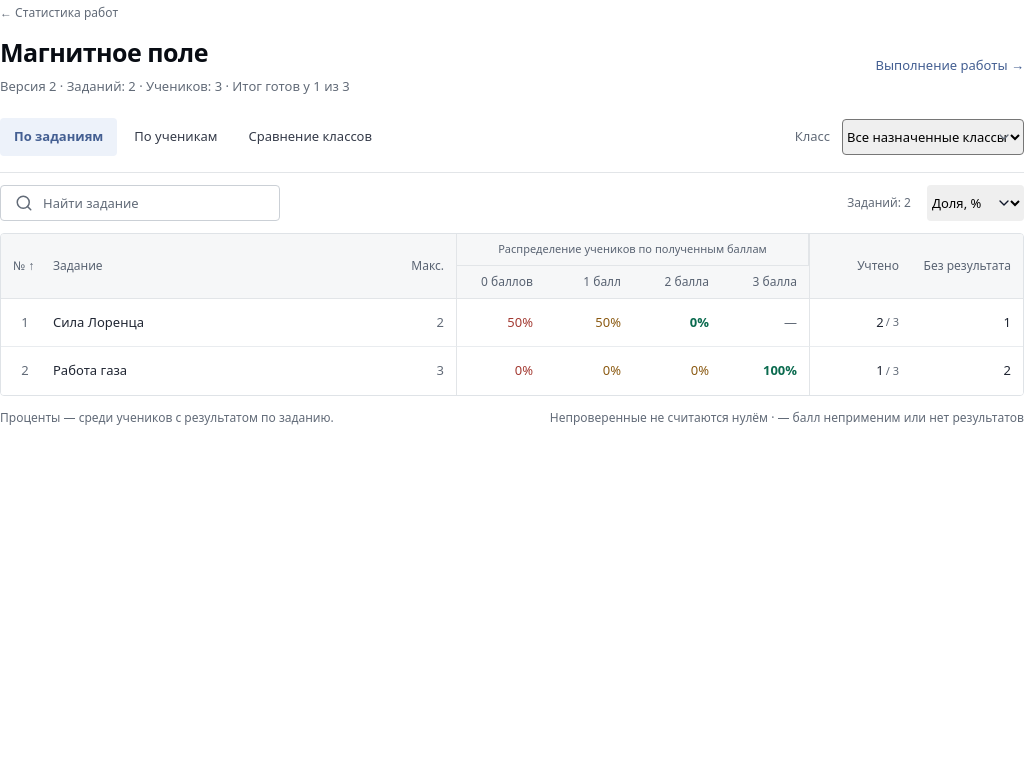
it: keeps an unreviewed/no-photo group separate from zero and transfers its filter to the matrix
Click the button named "Работа газа: без результата 2" at (989, 371), box [967, 351, 1011, 391]
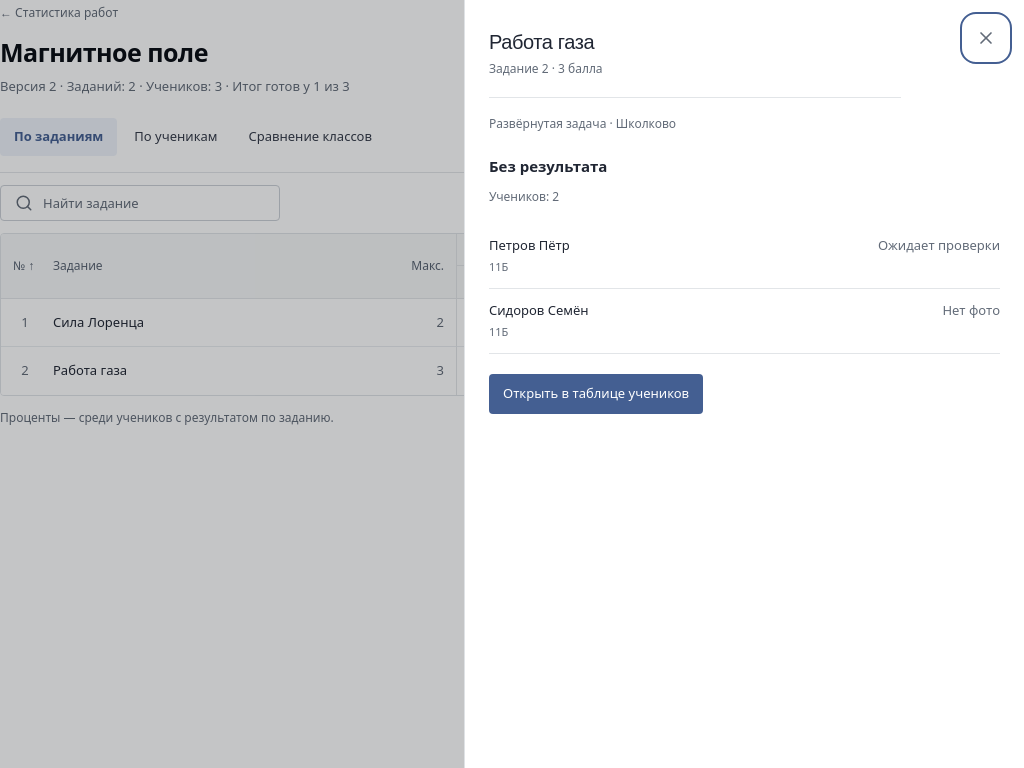
Result: the text "Ожидает проверки" is shown at [878, 236, 1000, 255]
Result: the text "Нет фото" is shown at [942, 301, 1000, 320]
Click the button "Открыть в таблице учеников" at (596, 394), box [489, 374, 703, 414]
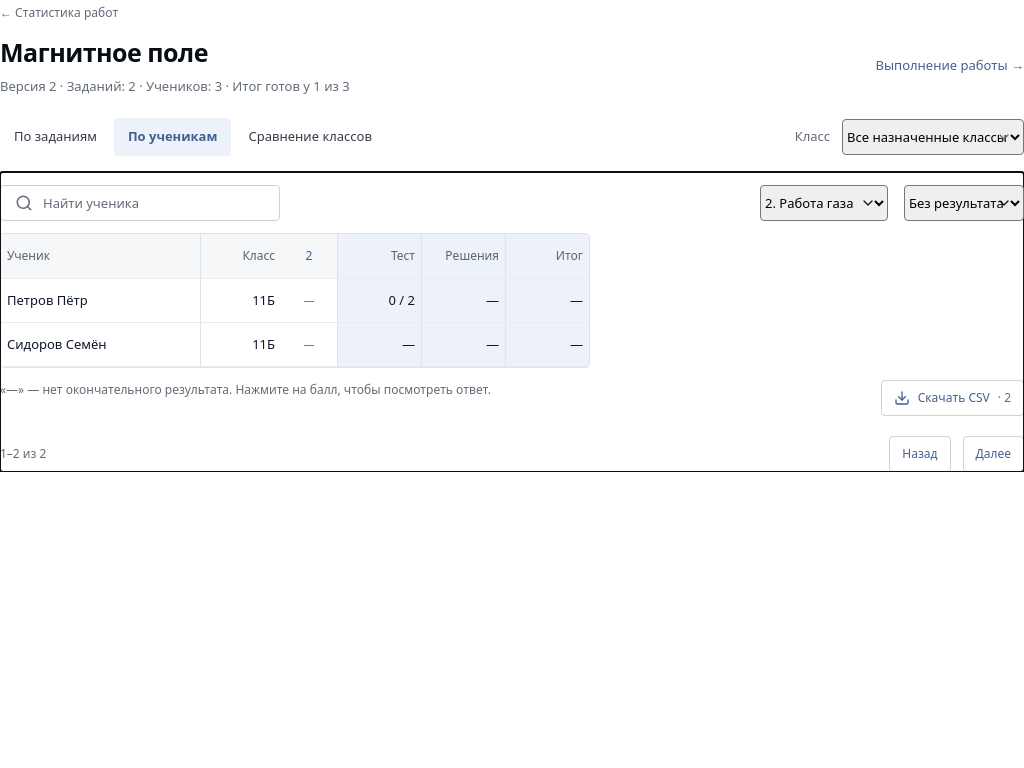
Result: the text "Петров Пётр" is shown at [7, 290, 88, 308]
Result: the dropdown named "Полученный балл" shows "Без результата" at [904, 185, 1023, 221]
